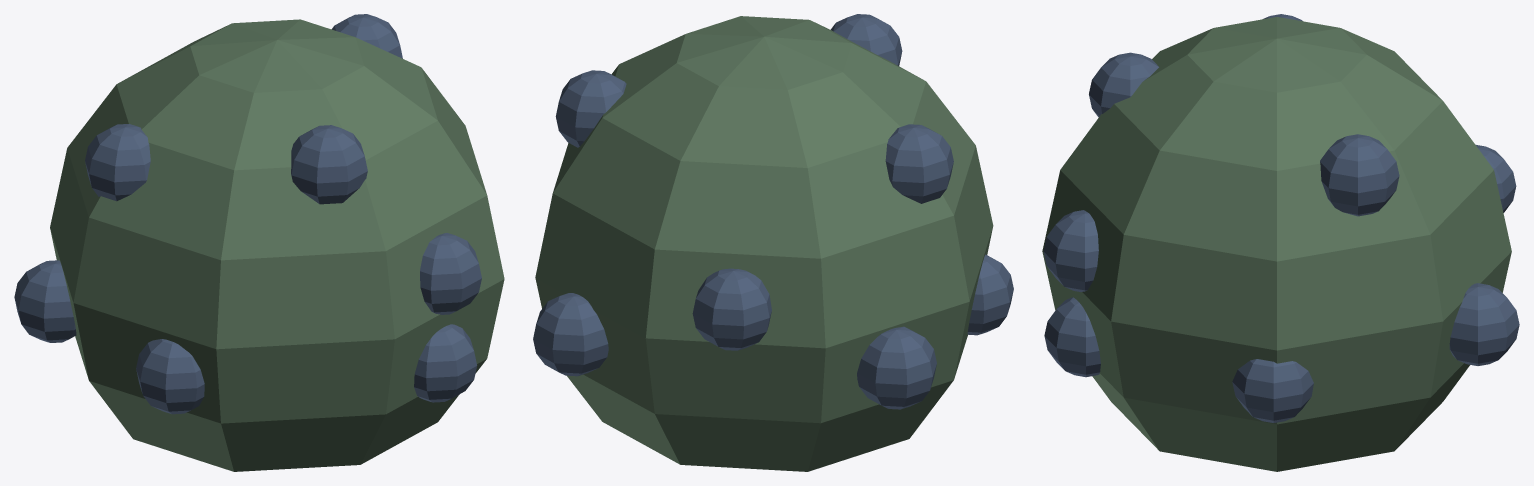
The model's file is MeadowsFruit.glb.
3 views of the same model, side by side, from view 1: azimuth 30°, elevation 25°; view 2: azimuth 150°, elevation 25°; view 3: azimuth 270°, elevation 25° (orthographic).
Parts seen in each view (by area): view 1: |pSphere4_lambert2, |pSphere4_lambert3, |pSphere4_pasted__pasted__lambert4, |group5|pasted__group1|pasted__pasted__group|Fruit_pasted__l, |group6|pasted__group1|pasted__pasted__group|Fruit_pasted__l; view 2: |pSphere4_lambert2, |pSphere4_lambert3, |group5|pasted__group1|pasted__pasted__group|Fruit_pasted__l, |group7|pasted__group1|pasted__pasted__group|Fruit_pasted__l, |pSphere4_pasted__pasted__lambert4; view 3: |pSphere4_lambert2, |pSphere4_lambert3, |group7|pasted__group1|pasted__pasted__group|Fruit_pasted__l, |group6|pasted__group1|pasted__pasted__group|Fruit_pasted__l, |pSphere4_pasted__pasted__lambert4.
Boxes of the visible parts, x1=… form: |pSphere4_lambert2: x1=50, y1=19, x2=504, y2=471; |pSphere4_lambert3: x1=85, y1=14, x2=481, y2=414; |pSphere4_pasted__pasted__lambert4: x1=291, y1=125, x2=367, y2=204; |group5|pasted__group1|pasted__pasted__group|Fruit_pasted__l: x1=14, y1=260, x2=76, y2=342; |group6|pasted__group1|pasted__pasted__group|Fruit_pasted__l: x1=414, y1=324, x2=477, y2=402; |pSphere4_lambert2: x1=535, y1=16, x2=993, y2=471; |pSphere4_lambert3: x1=555, y1=70, x2=1013, y2=350; |group5|pasted__group1|pasted__pasted__group|Fruit_pasted__l: x1=857, y1=326, x2=936, y2=409; |group7|pasted__group1|pasted__pasted__group|Fruit_pasted__l: x1=533, y1=293, x2=608, y2=376; |pSphere4_pasted__pasted__lambert4: x1=830, y1=14, x2=902, y2=65; |pSphere4_lambert2: x1=1042, y1=17, x2=1511, y2=471; |pSphere4_lambert3: x1=1043, y1=14, x2=1516, y2=422; |group7|pasted__group1|pasted__pasted__group|Fruit_pasted__l: x1=1449, y1=283, x2=1519, y2=365; |group6|pasted__group1|pasted__pasted__group|Fruit_pasted__l: x1=1044, y1=297, x2=1100, y2=377; |pSphere4_pasted__pasted__lambert4: x1=1089, y1=52, x2=1158, y2=117.
Bounding box in the file's own units: 5.67 × 4.68 × 5.48.
